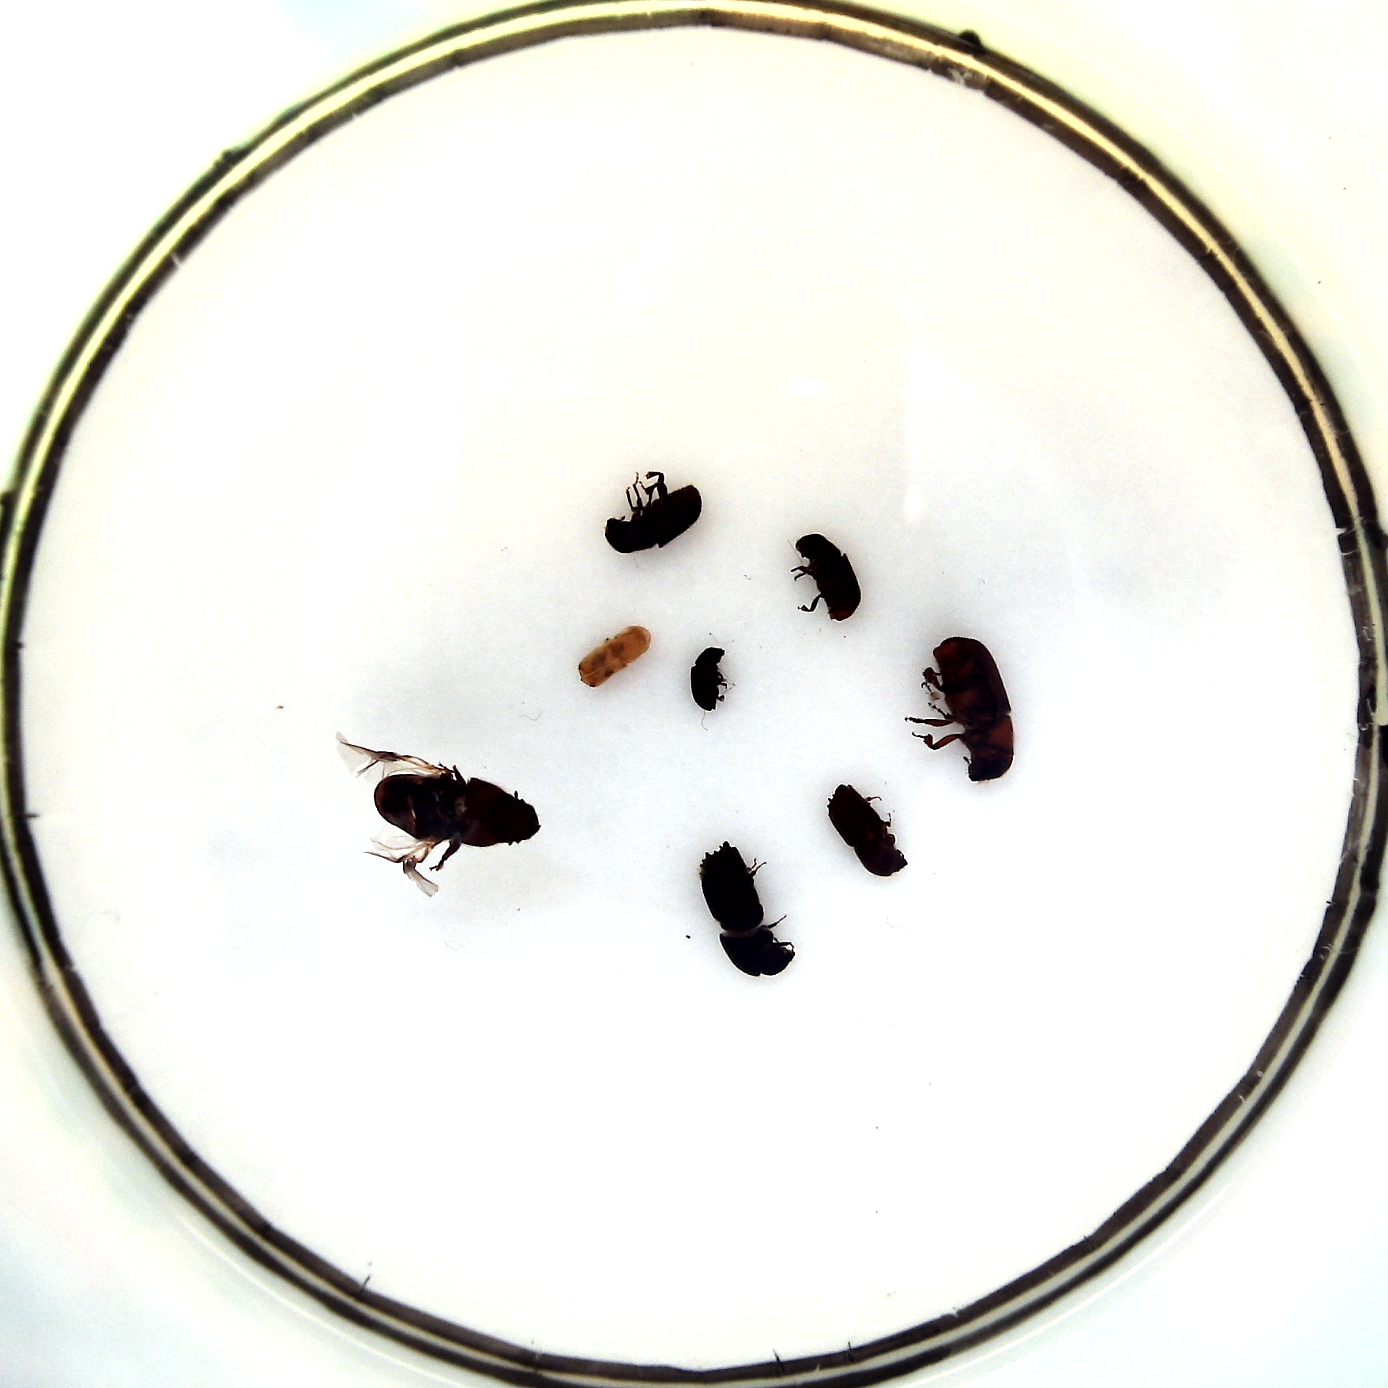Boerner: (697, 841, 799, 979)
Leconte: (372, 770, 541, 847), (930, 636, 1016, 782)
acuminatus: (689, 646, 725, 713)
armandi: (606, 486, 703, 555), (793, 531, 861, 622)
coleoptera: (580, 625, 651, 689)
linnaeus: (827, 782, 908, 877)
